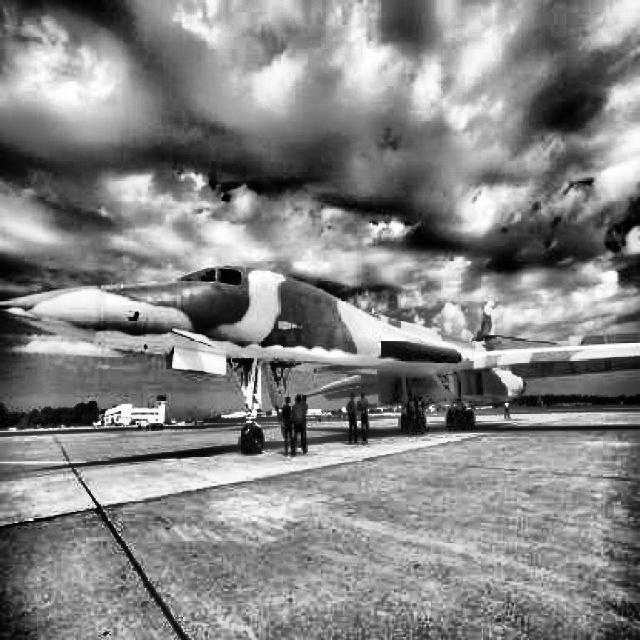B1: (0, 264, 640, 456)
